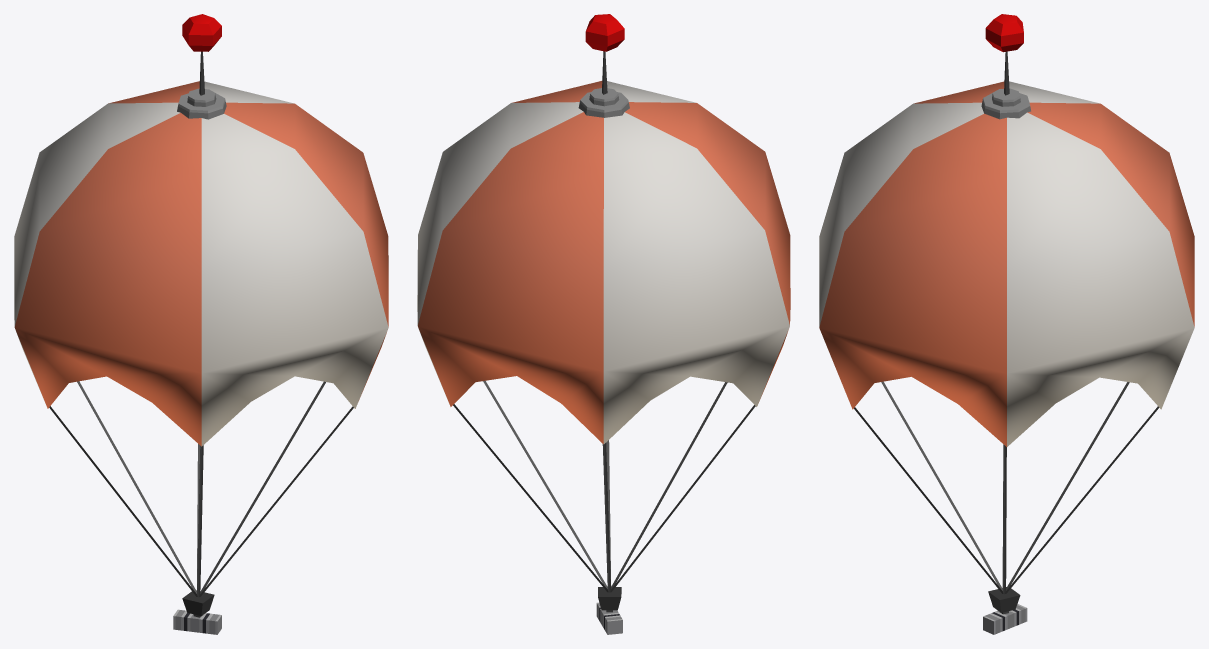
The model's file is crateParachute.glb.
3 views of the same model, side by side, from view 1: azimuth 30°, elevation 25°; view 2: azimuth 150°, elevation 25°; view 3: azimuth 270°, elevation 25° (orthographic).
Parts seen in each view (by area): view 1: crateParachute; view 2: crateParachute; view 3: crateParachute.
Part boxes in pixels (box(x1,y1,x2,y2)): crateParachute: box(14, 14, 388, 634); crateParachute: box(417, 14, 790, 634); crateParachute: box(819, 14, 1194, 634).
Size of the model in its own units: 2.49 by 3.89 by 2.16.
